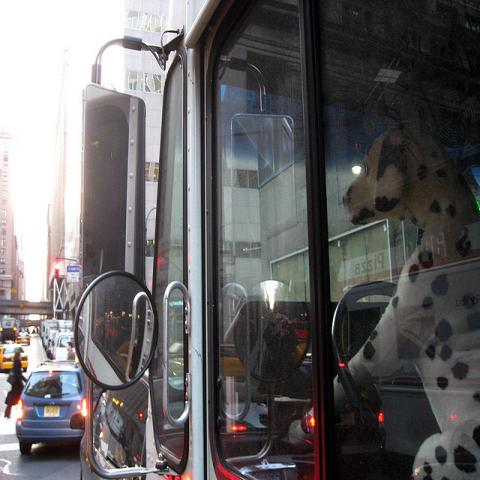bus: (73, 0, 479, 479)
car: (18, 362, 86, 456), (0, 342, 30, 373), (50, 332, 78, 362), (41, 323, 61, 348), (45, 328, 60, 357), (16, 330, 31, 345)
truck: (71, 3, 477, 474), (0, 318, 18, 344)
